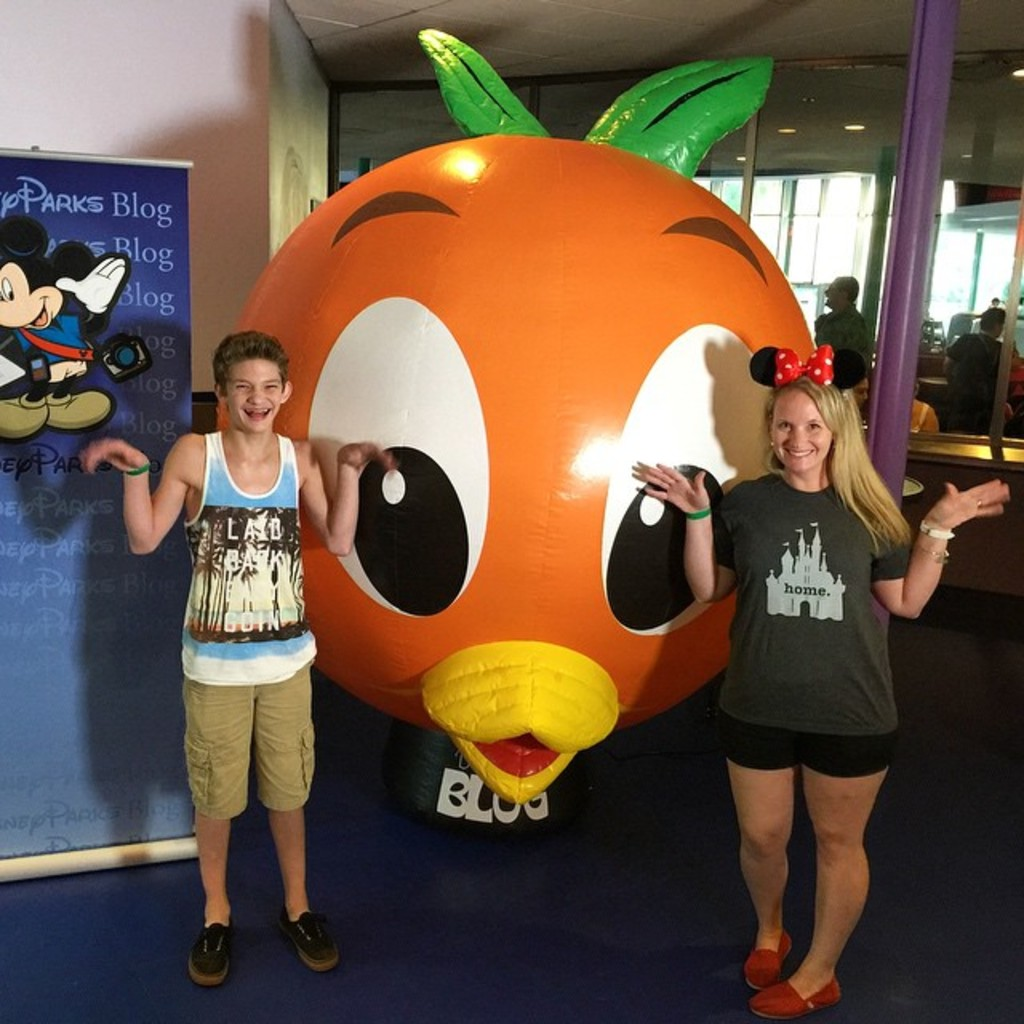Human-face: (768, 390, 830, 472), (224, 354, 283, 430), (826, 275, 843, 309)
